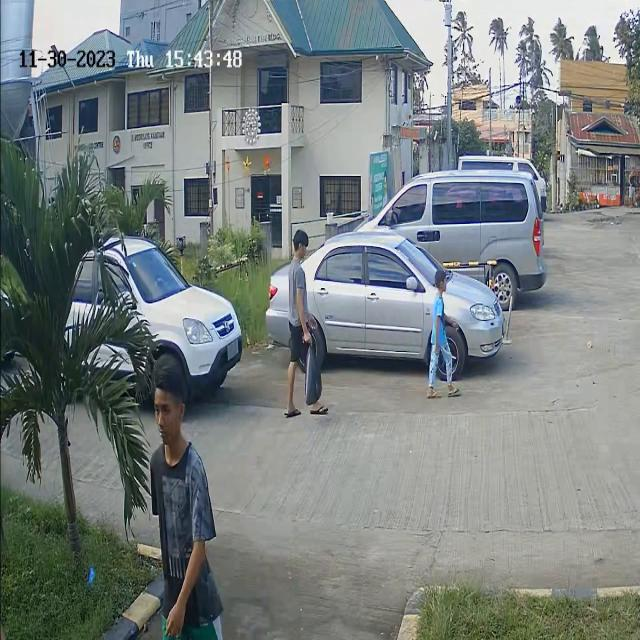person: (141, 353, 207, 544), (425, 262, 457, 403), (282, 225, 317, 339)
